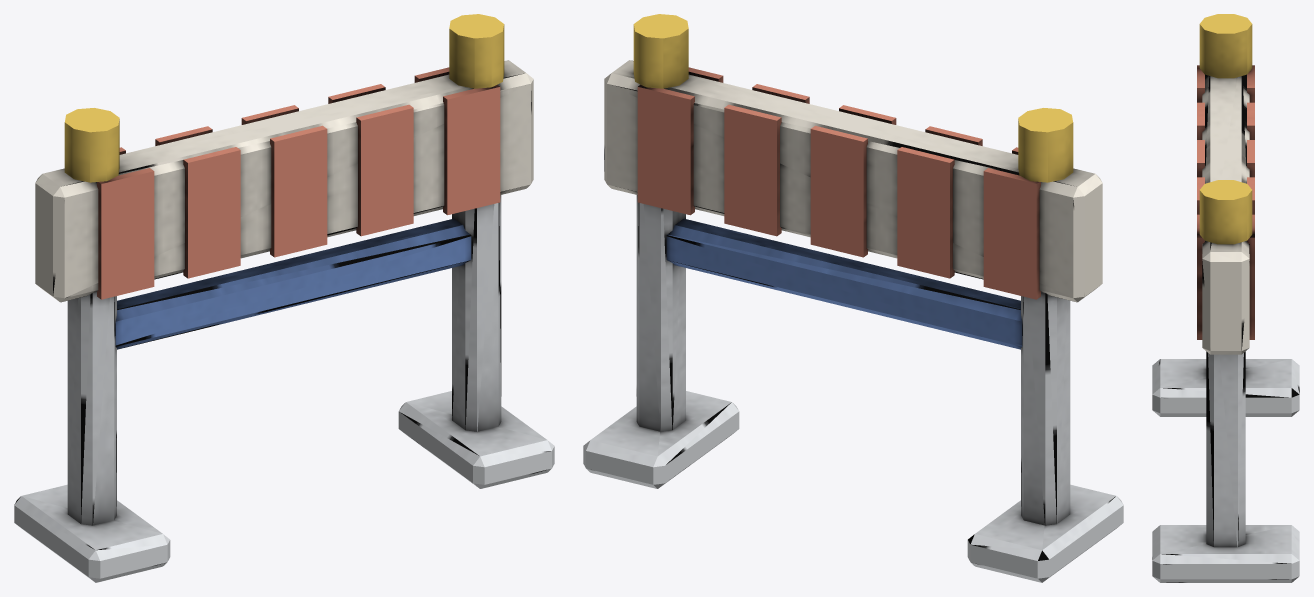
The model's file is barrier.obj.
3 views of the same model, side by side, from view 1: azimuth 30°, elevation 25°; view 2: azimuth 150°, elevation 25°; view 3: azimuth 270°, elevation 25° (orthographic). The views are drawn at different scales.
Parts seen in each view (by area): view 1: board, rail_low, leg_l, leg_r, foot_l, foot_r, stripe_2_f, stripe_4_f, stripe_0_f, stripe_1_f, stripe_3_f, lamp_l (+1 smaller); view 2: board, rail_low, leg_l, leg_r, foot_l, foot_r, stripe_2_b, stripe_4_b, stripe_0_b, stripe_1_b, stripe_3_b, lamp_l (+1 smaller); view 3: board, leg_r, foot_r, foot_l, lamp_l, lamp_r, stripe_4_b, stripe_4_f, stripe_1_b, stripe_1_f, stripe_2_b, stripe_2_f (+2 smaller).
Part boxes in pixels (box(x1,y1,x2,y2)): board: box(35, 60, 533, 302); rail_low: box(115, 218, 471, 349); leg_l: box(67, 292, 116, 525); leg_r: box(452, 195, 501, 431); foot_l: box(14, 484, 170, 582); foot_r: box(398, 391, 554, 488); stripe_2_f: box(270, 125, 327, 257); stripe_4_f: box(443, 84, 500, 215); stripe_0_f: box(97, 168, 154, 299); stripe_1_f: box(183, 147, 240, 278); stripe_3_f: box(356, 104, 413, 236); lamp_l: box(64, 108, 119, 182); board: box(604, 60, 1102, 302); rail_low: box(666, 218, 1022, 349); leg_l: box(1021, 292, 1070, 525); leg_r: box(636, 195, 685, 431); foot_l: box(967, 484, 1123, 582); foot_r: box(583, 391, 739, 488); stripe_2_b: box(810, 125, 867, 257); stripe_4_b: box(637, 84, 694, 215); stripe_0_b: box(983, 168, 1040, 299); stripe_1_b: box(897, 147, 954, 278); stripe_3_b: box(724, 104, 781, 236); lamp_l: box(1018, 108, 1073, 182); board: box(1202, 74, 1249, 354); leg_r: box(1206, 351, 1245, 547); foot_r: box(1152, 525, 1299, 582); foot_l: box(1152, 359, 1299, 416); lamp_l: box(1199, 14, 1252, 78); lamp_r: box(1199, 180, 1252, 244); stripe_4_b: box(1247, 214, 1254, 339); stripe_4_f: box(1197, 214, 1204, 339); stripe_1_b: box(1247, 102, 1254, 139); stripe_1_f: box(1197, 102, 1204, 139); stripe_2_b: box(1247, 140, 1254, 177); stripe_2_f: box(1197, 140, 1204, 177).
Size of the model in its own units: 2 by 1.7 by 0.6.
1 material, 1 textured.
